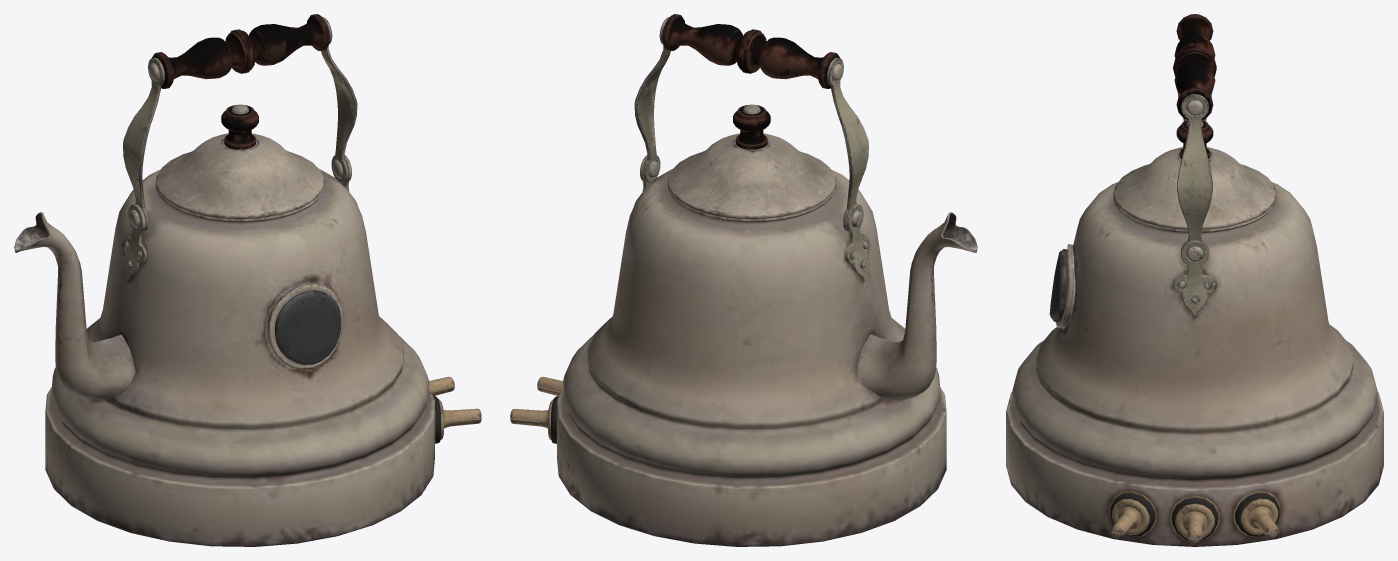
The model's file is vintage_electric_kettle.glb.
3 renders of one model, left to right at view 1: azimuth 30°, elevation 25°; view 2: azimuth 150°, elevation 25°; view 3: azimuth 270°, elevation 25°, orthographic. The views are drawn at different scales.
Parts seen in each view (by area): view 1: vintage_electric_kettle; view 2: vintage_electric_kettle; view 3: vintage_electric_kettle.
Part boxes in pixels (x1,y1,x2,y2): vintage_electric_kettle: (14,14,481,546); vintage_electric_kettle: (510,14,977,546); vintage_electric_kettle: (1006,14,1383,546).
Bounding box in the file's own units: 0.3209 × 0.3048 × 0.2486.
2 materials, 2 textured.
